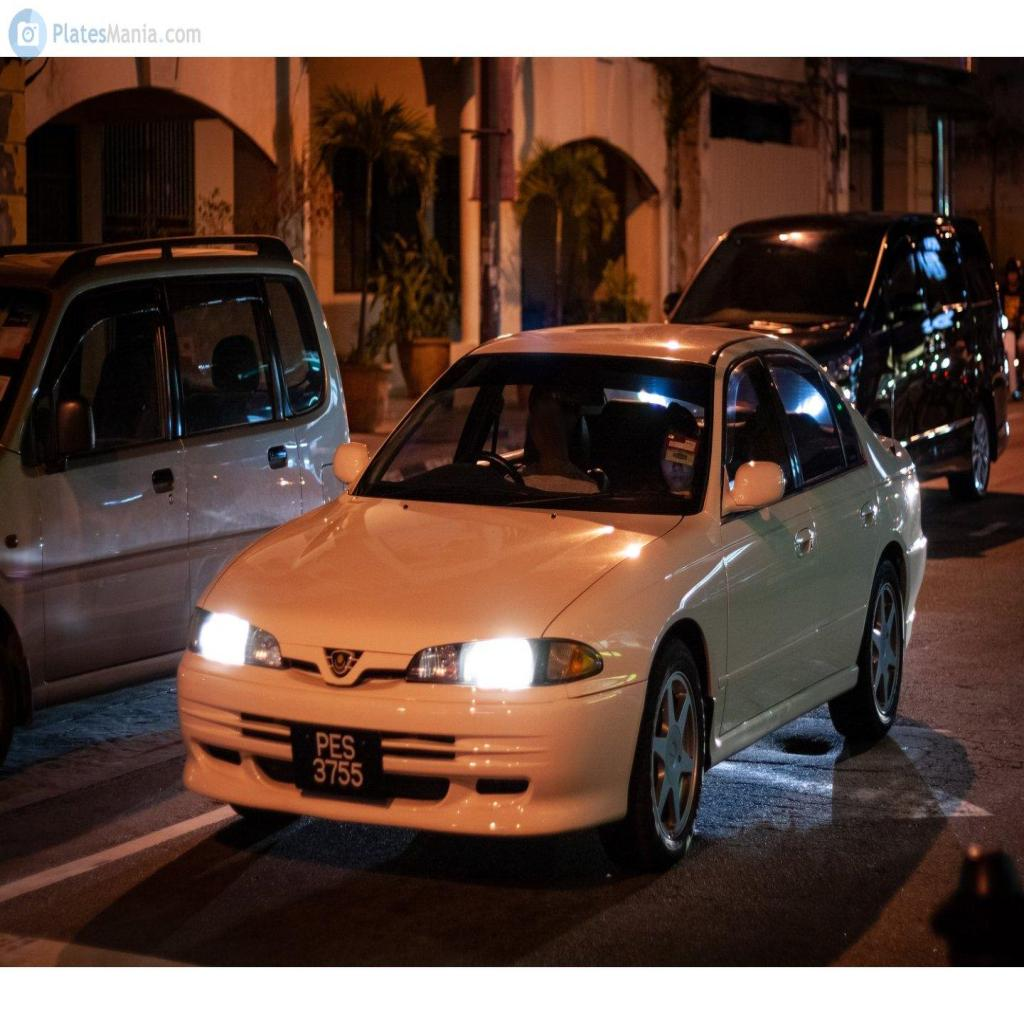car: (178, 324, 924, 864)
car plate: (292, 724, 383, 798)
